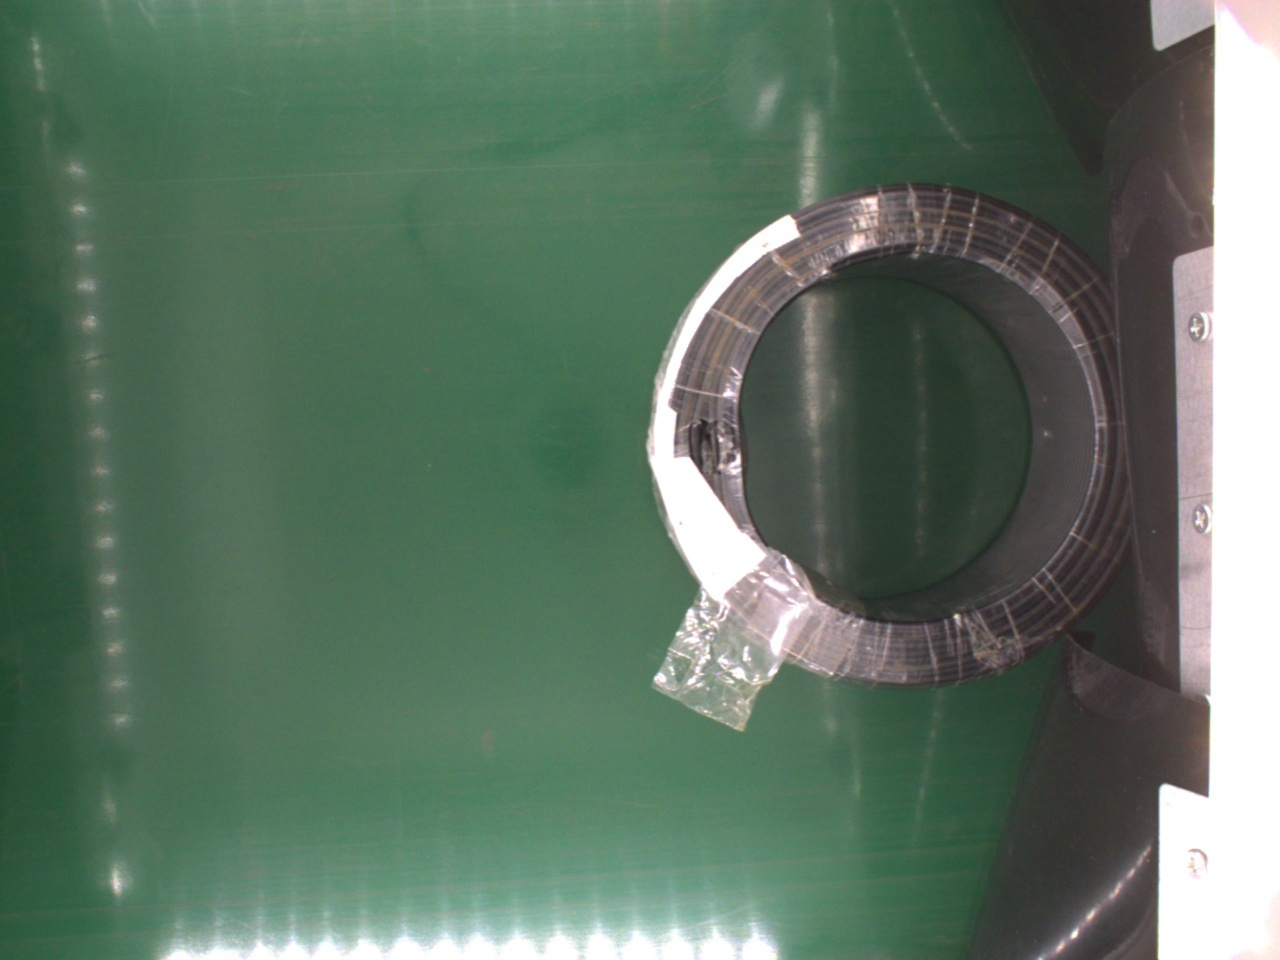black: (647, 179, 1108, 689)
